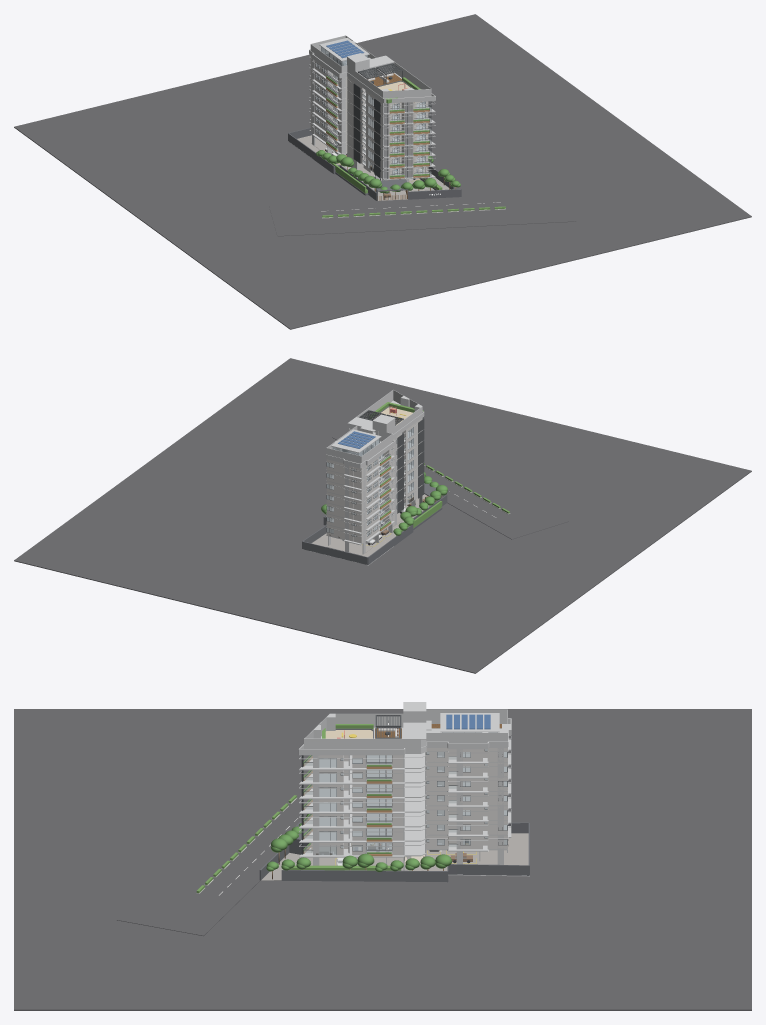
The model's file is vibgyor.glb.
The picture shows the model from 3 angles, top to bottom: view 1: azimuth 30°, elevation 25°; view 2: azimuth 150°, elevation 25°; view 3: azimuth 270°, elevation 25°; orthographic projection. The views are drawn at different scales.
Parts seen in each view (by area): view 1: Site_Terrain_Base, Main_18m_Road, Floor_8_Stair_Cabin_Walls, Plot_Compound_Wall, Landscape_Tree_Canopies, Floor_8_Terrace_Parapet, Plot_Driveway_Pavers; view 2: Site_Terrain_Base, Main_18m_Road, Floor_8_Stair_Cabin_Walls, Plot_Compound_Wall, Landscape_Tree_Canopies; view 3: Site_Terrain_Base, Main_18m_Road, Floor_8_Stair_Cabin_Walls, Plot_Compound_Wall, Landscape_Tree_Canopies, Floor_7_Slab_Band, Floor_3_Slab_Band, Floor_2_Slab_Band, Floor_5_Slab_Band, Floor_4_Slab_Band, Floor_6_Slab_Band, Floor_8_Terrace_Parapet (+20 smaller).
Boxes of the visible parts, box(x1,y1,x2,y2) form: Site_Terrain_Base: box(14, 14, 751, 329); Main_18m_Road: box(269, 191, 576, 236); Floor_8_Stair_Cabin_Walls: box(310, 35, 431, 98); Plot_Compound_Wall: box(288, 127, 461, 200); Landscape_Tree_Canopies: box(316, 150, 460, 193); Floor_8_Terrace_Parapet: box(309, 49, 435, 102); Plot_Driveway_Pavers: box(297, 135, 450, 200); Site_Terrain_Base: box(14, 358, 751, 673); Main_18m_Road: box(332, 432, 568, 539); Floor_8_Stair_Cabin_Walls: box(326, 390, 422, 463); Plot_Compound_Wall: box(302, 495, 447, 564); Landscape_Tree_Canopies: box(321, 472, 447, 535); Site_Terrain_Base: box(14, 709, 751, 1010); Main_18m_Road: box(117, 764, 309, 936); Floor_8_Stair_Cabin_Walls: box(304, 709, 507, 748); Plot_Compound_Wall: box(259, 822, 529, 882); Landscape_Tree_Canopies: box(266, 814, 452, 872); Floor_7_Slab_Band: box(299, 736, 511, 770); Floor_3_Slab_Band: box(299, 794, 511, 828); Floor_2_Slab_Band: box(299, 809, 511, 842); Floor_5_Slab_Band: box(299, 765, 511, 799); Floor_4_Slab_Band: box(299, 780, 511, 813); Floor_6_Slab_Band: box(299, 751, 511, 784); Floor_8_Terrace_Parapet: box(298, 718, 511, 754).
Bounding box in the file's own units: 135 × 33.41 × 140.
52 materials, 4 textured.
